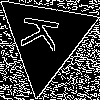K: (20, 13, 68, 54)
